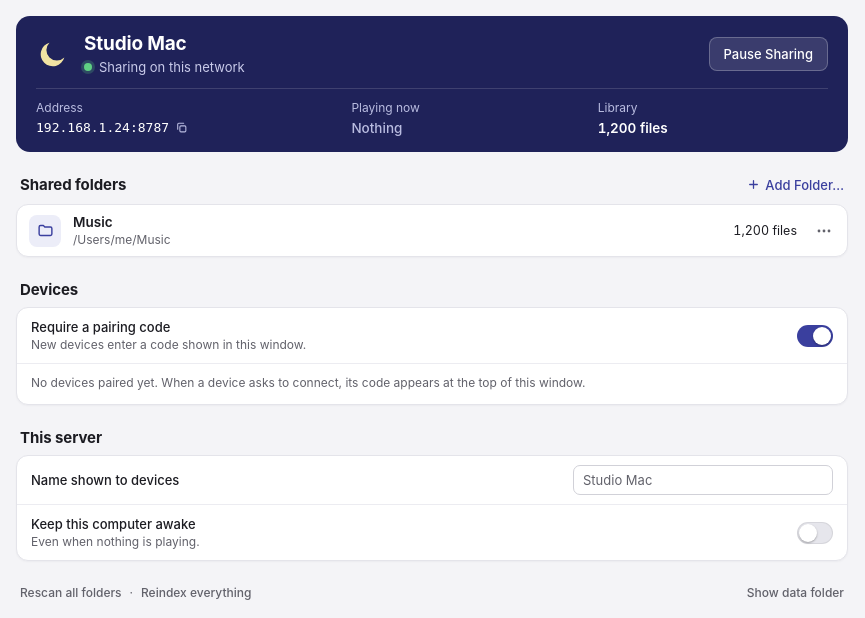
Test: renaming › an empty or unchanged name isn't saved
Double-click the text "Music".
double_click(93, 222)  # box [73,214,112,230]
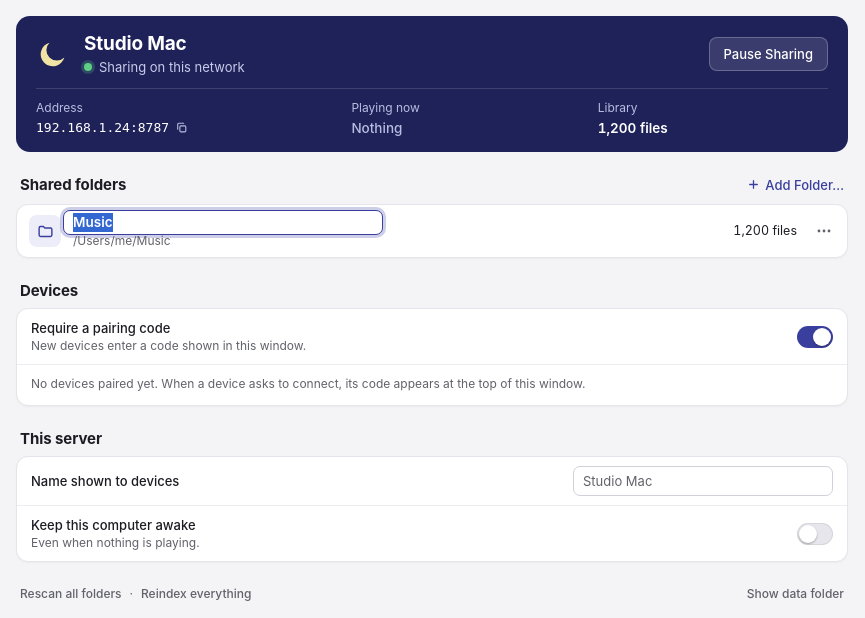
Press Enter
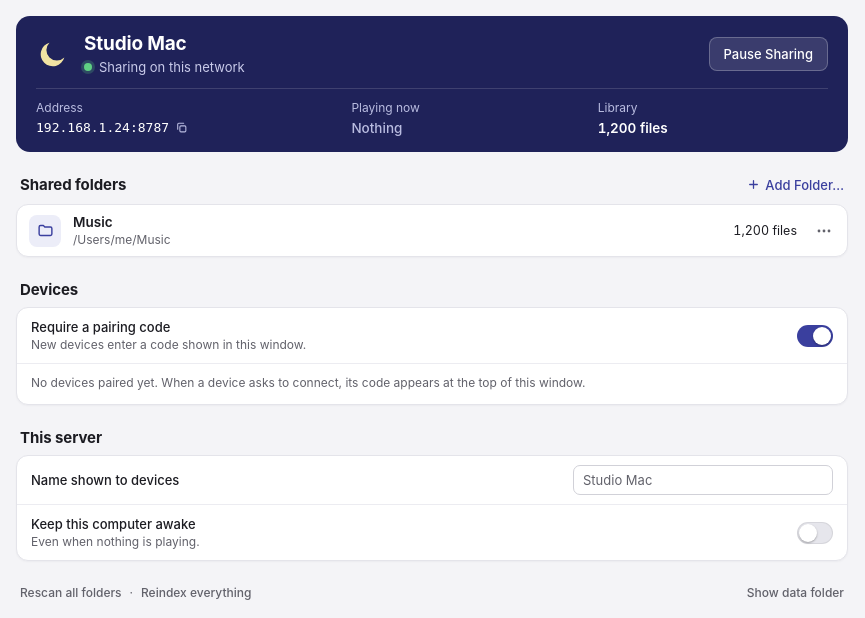
Double-click the text "Music".
double_click(93, 222)  # box [73,214,112,230]
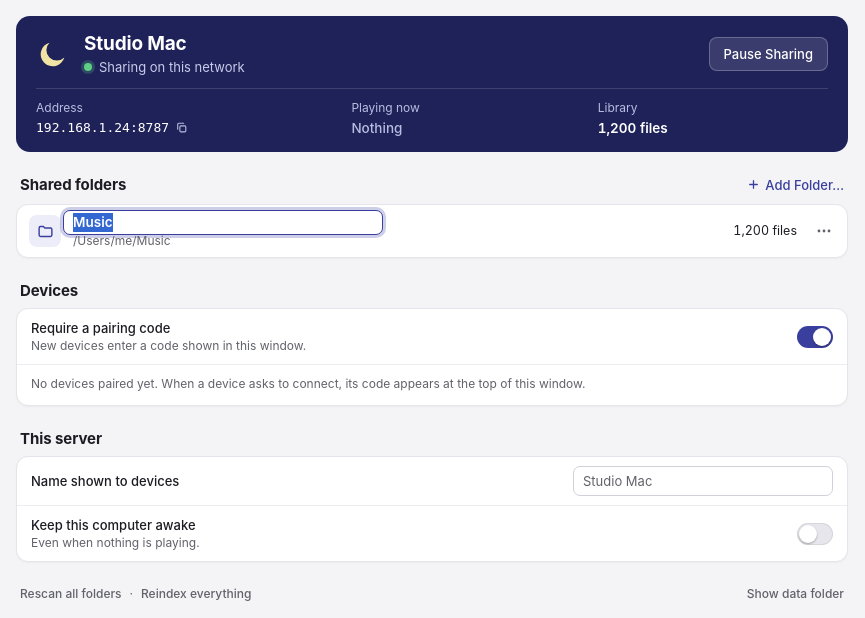
Type keys "{Control>}a{/Control}{Backspace}   {Enter}"
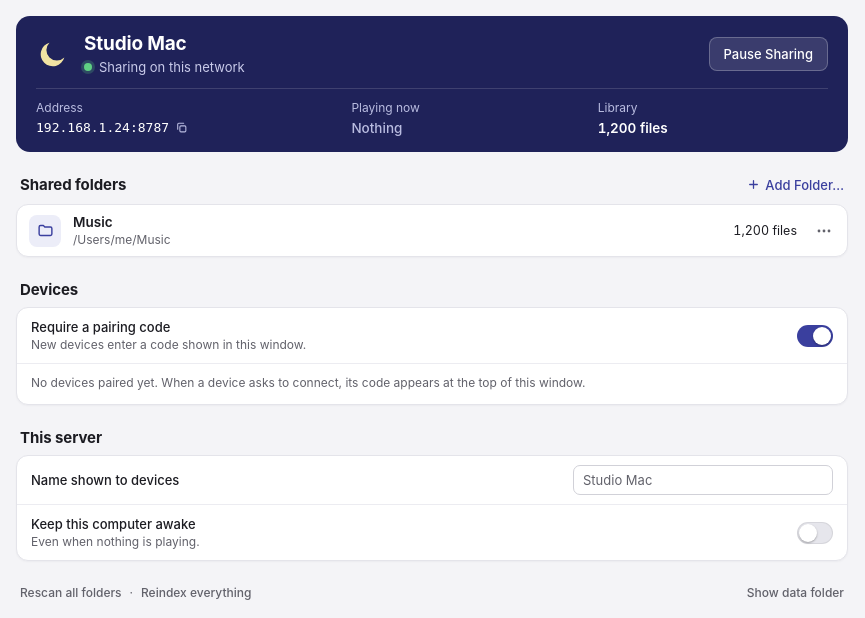
Check: the text "Music" is shown, box [73,214,112,230]
